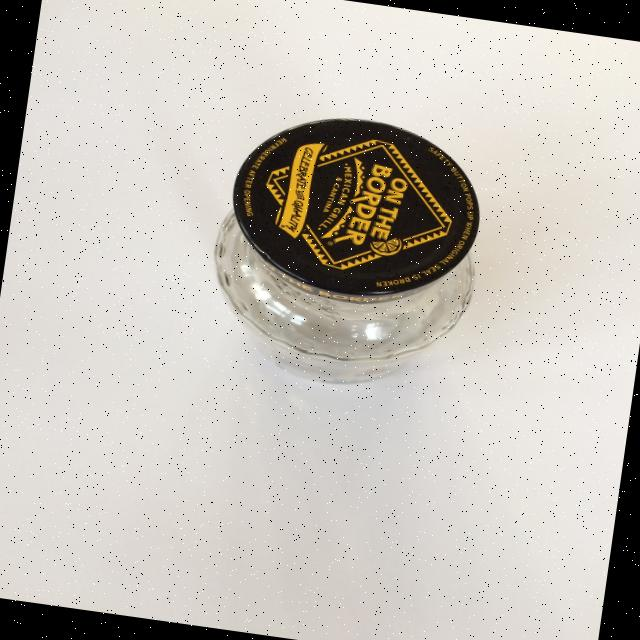glass: (197, 100, 496, 402)
